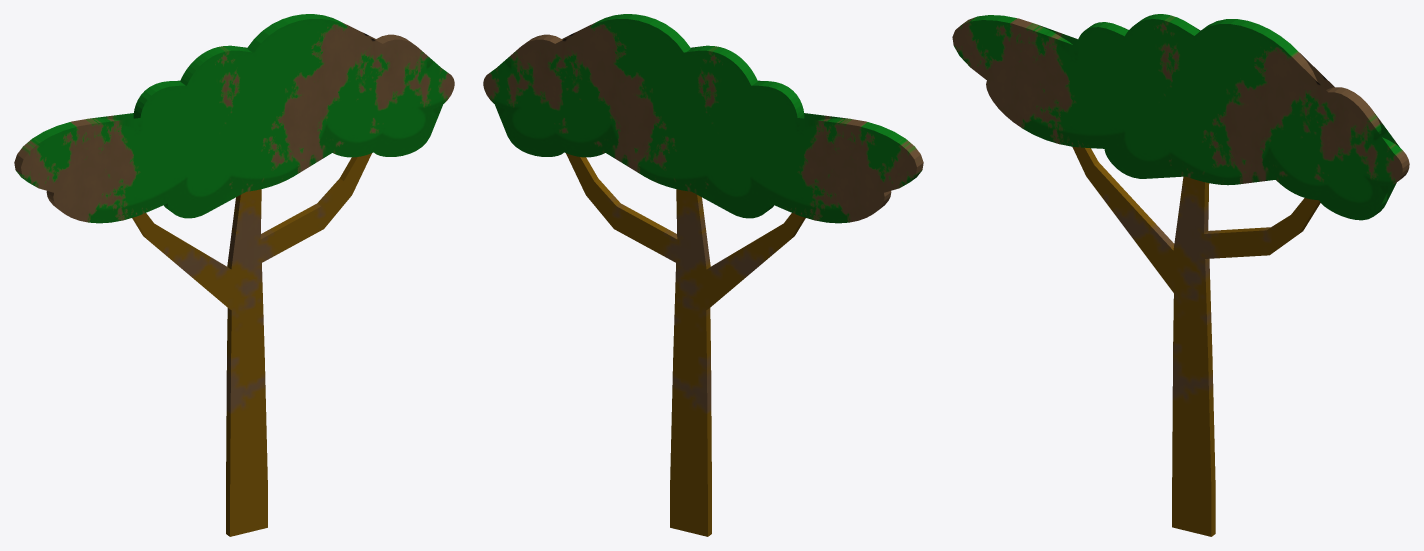
File: arbol 3.fbx
3 renders of one model, left to right at view 1: azimuth 30°, elevation 25°; view 2: azimuth 150°, elevation 25°; view 3: azimuth 330°, elevation 25°, orthographic. The views are drawn at different scales.
Parts seen in each view (by area): view 1: arbol 3; view 2: arbol 3; view 3: arbol 3.
Boxes of the visible parts, <box> form: arbol 3: <box>14,14,454,536</box>; arbol 3: <box>483,14,923,536</box>; arbol 3: <box>952,14,1409,536</box>.
Size of the model in its own units: 669 by 738 by 17.73.
